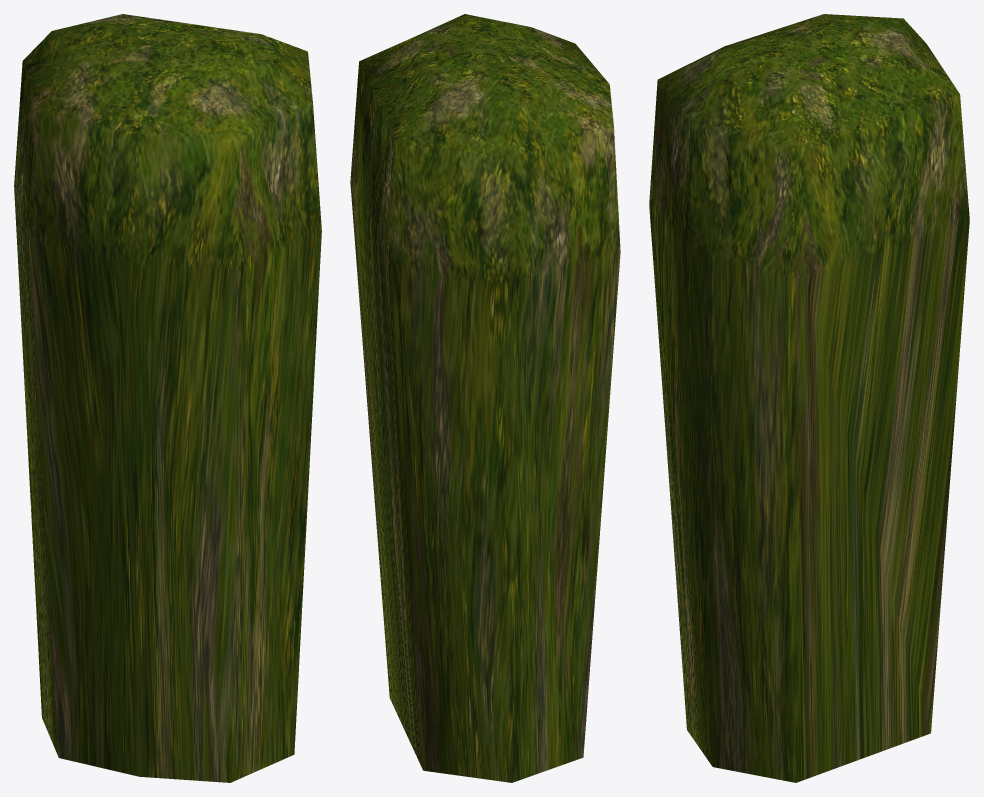
Rendered from OVERHILL_A_01_BOX04.fbx.
3 views of the same model, side by side, from view 1: azimuth 30°, elevation 25°; view 2: azimuth 150°, elevation 25°; view 3: azimuth 270°, elevation 25° (orthographic). The views are drawn at different scales.
Visible parts, largest first — view 1: OVERHILL_A_01_BOX04; view 2: OVERHILL_A_01_BOX04; view 3: OVERHILL_A_01_BOX04.
Boxes of the visible parts, x1=… form: OVERHILL_A_01_BOX04: x1=14, y1=14, x2=321, y2=782; OVERHILL_A_01_BOX04: x1=350, y1=14, x2=620, y2=782; OVERHILL_A_01_BOX04: x1=649, y1=14, x2=969, y2=782.
Bounding box in the file's own units: 17033 × 40313 × 16929.
1 material, 1 textured.
